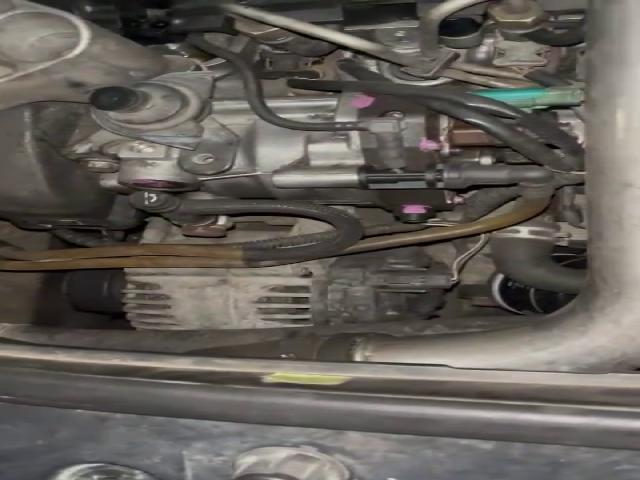alternator: (124, 259, 333, 330)
high_pressure_pump: (71, 92, 459, 223)
